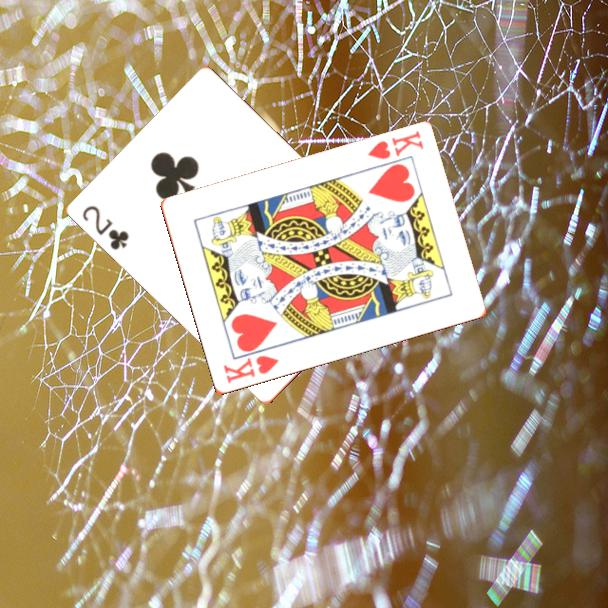c02: (79, 202, 133, 253)
h13: (364, 128, 426, 163), (220, 352, 281, 387)
